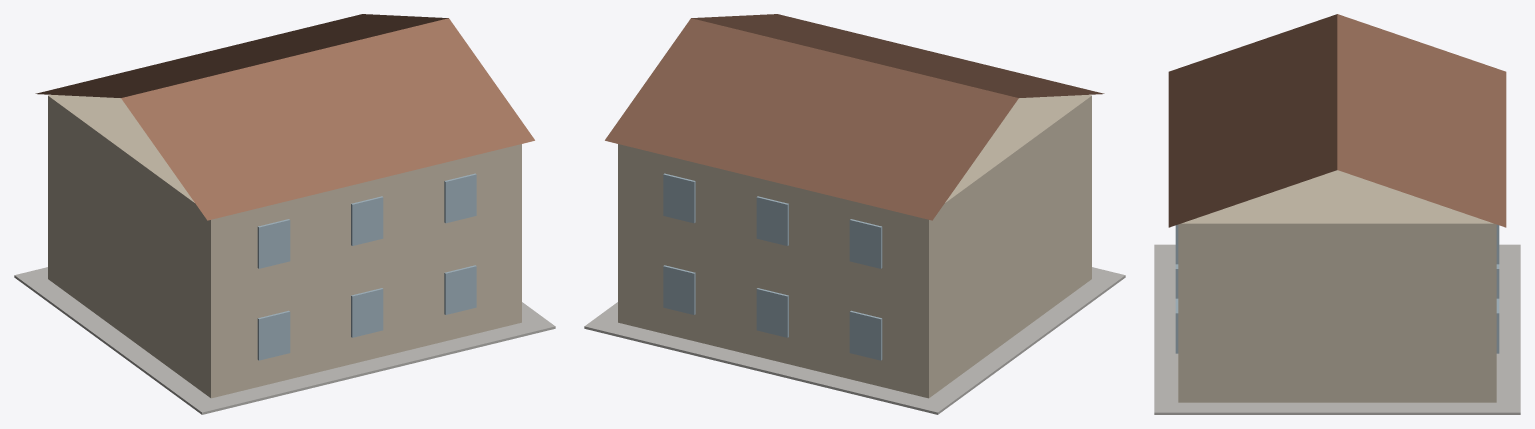
File: traditional-family.glb
3 renders of one model, left to right at view 1: azimuth 30°, elevation 25°; view 2: azimuth 150°, elevation 25°; view 3: azimuth 270°, elevation 25°, orthographic. The views are drawn at different scales.
Parts seen in each view (by area): view 1: House; view 2: House; view 3: House.
Part boxes in pixels (<box>): House: <box>14,14,555,414</box>; House: <box>584,14,1125,414</box>; House: <box>1154,14,1520,414</box>.
Bounding box in the file's own units: 12.5 × 8.28 × 11.5.
